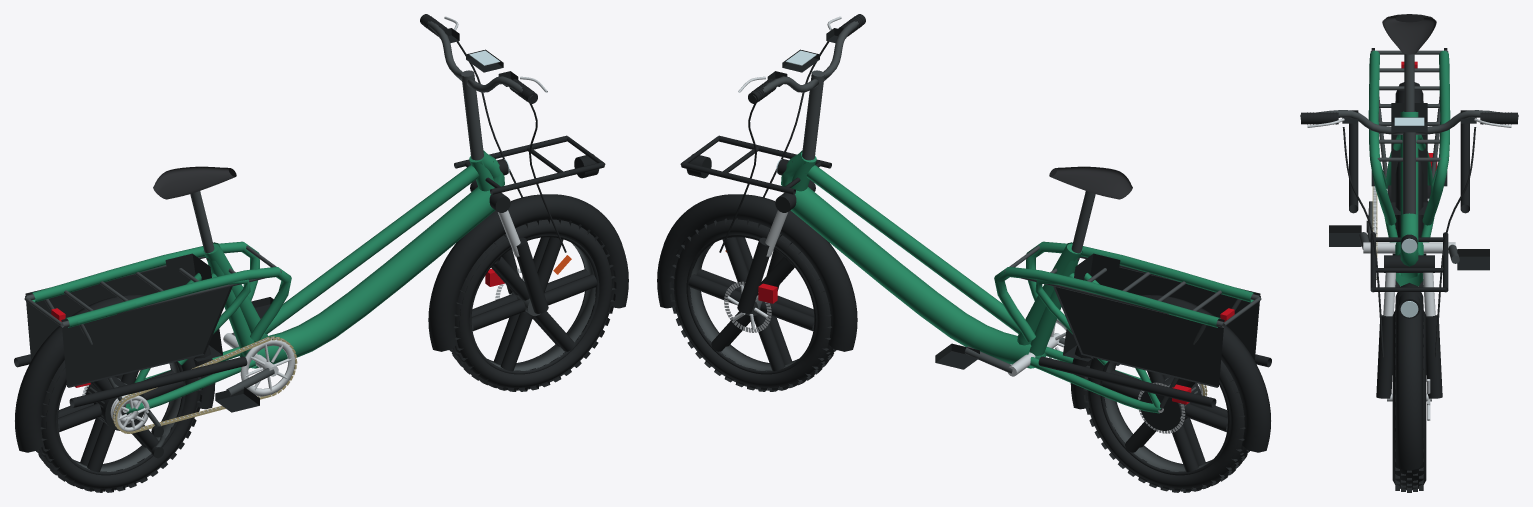
Rendered from fiido-t2.glb.
The picture shows the model from 3 angles, left to right: view 1: azimuth 30°, elevation 25°; view 2: azimuth 150°, elevation 25°; view 3: azimuth 270°, elevation 25°; orthographic projection.
Parts seen in each view (by area): view 1: Bodywork | black, Bodywork | black.001, Chassis | green, BatteryMount | green, FrontWheel | black, FrontWheel | rubber, Bodywork | green, RearWheel | rubber, RearWheel | black, Drive | steel, Cockpit | graphite, Bodywork | seat (+11 smaller); view 2: Bodywork | black, Bodywork | black.001, Chassis | green, BatteryMount | green, FrontWheel | black, FrontWheel | rubber, Bodywork | green, RearWheel | rubber, RearWheel | black, Cockpit | graphite, Bodywork | graphite, Bodywork | seat (+10 smaller); view 3: Bodywork | black, Bodywork | green, Fork | black, Cockpit | graphite, Chassis | green, Cockpit | rubber, Bodywork | graphite, FrontWheel | rubber, Bodywork | seat, Drive | black, BatteryMount | black, Fork | steel (+9 smaller).
Part boxes in pixels (bbox=[...]): Bodywork | black: bbox=[14, 135, 628, 452]; Bodywork | black.001: bbox=[25, 267, 232, 387]; Chassis | green: bbox=[126, 150, 504, 413]; BatteryMount | green: bbox=[251, 187, 495, 368]; FrontWheel | black: bbox=[469, 235, 599, 374]; FrontWheel | rubber: bbox=[452, 219, 612, 387]; Bodywork | green: bbox=[31, 241, 291, 365]; RearWheel | rubber: bbox=[39, 357, 198, 488]; RearWheel | black: bbox=[56, 361, 185, 475]; Drive | steel: bbox=[110, 333, 295, 431]; Cockpit | graphite: bbox=[427, 21, 532, 160]; Bodywork | seat: bbox=[153, 166, 236, 199]; Bodywork | black: bbox=[657, 135, 1271, 452]; Bodywork | black.001: bbox=[1053, 267, 1260, 387]; Chassis | green: bbox=[781, 150, 1161, 413]; BatteryMount | green: bbox=[790, 187, 1034, 368]; FrontWheel | black: bbox=[686, 235, 816, 374]; FrontWheel | rubber: bbox=[673, 219, 833, 387]; Bodywork | green: bbox=[994, 241, 1254, 365]; RearWheel | rubber: bbox=[1087, 357, 1246, 488]; RearWheel | black: bbox=[1100, 361, 1229, 475]; Cockpit | graphite: bbox=[753, 21, 858, 160]; Bodywork | graphite: bbox=[1004, 245, 1261, 410]; Bodywork | seat: bbox=[1049, 166, 1132, 199]; Bodywork | black: bbox=[1349, 82, 1469, 470]; Bodywork | green: bbox=[1368, 50, 1450, 225]; Fork | black: bbox=[1376, 255, 1442, 398]; Cockpit | graphite: bbox=[1300, 110, 1518, 214]; Chassis | green: bbox=[1384, 111, 1434, 278]; Cockpit | rubber: bbox=[1301, 112, 1517, 357]; Bodywork | graphite: bbox=[1370, 50, 1448, 178]; FrontWheel | rubber: bbox=[1392, 310, 1426, 490]; Bodywork | seat: bbox=[1382, 14, 1436, 54]; Drive | black: bbox=[1329, 225, 1489, 270]; BatteryMount | black: bbox=[1391, 103, 1427, 214]; Fork | steel: bbox=[1383, 272, 1435, 316].
Size of the model in its own units: 2.16 by 1.16 by 0.6634.
